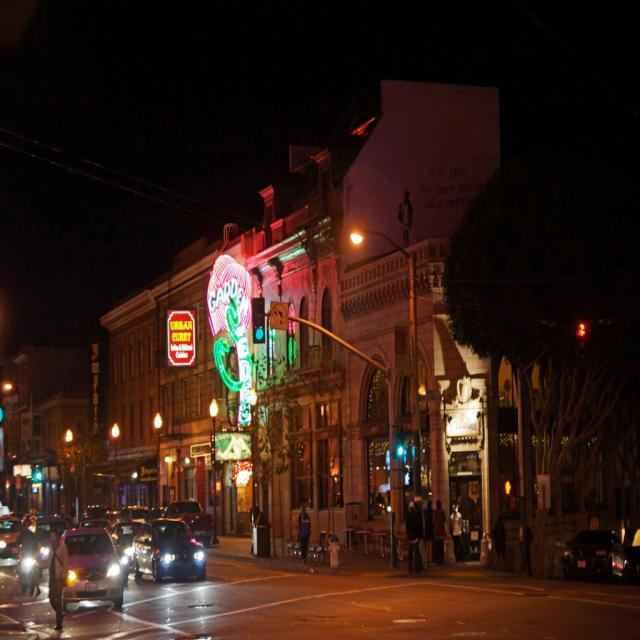traffic light: (252, 296, 266, 343)
